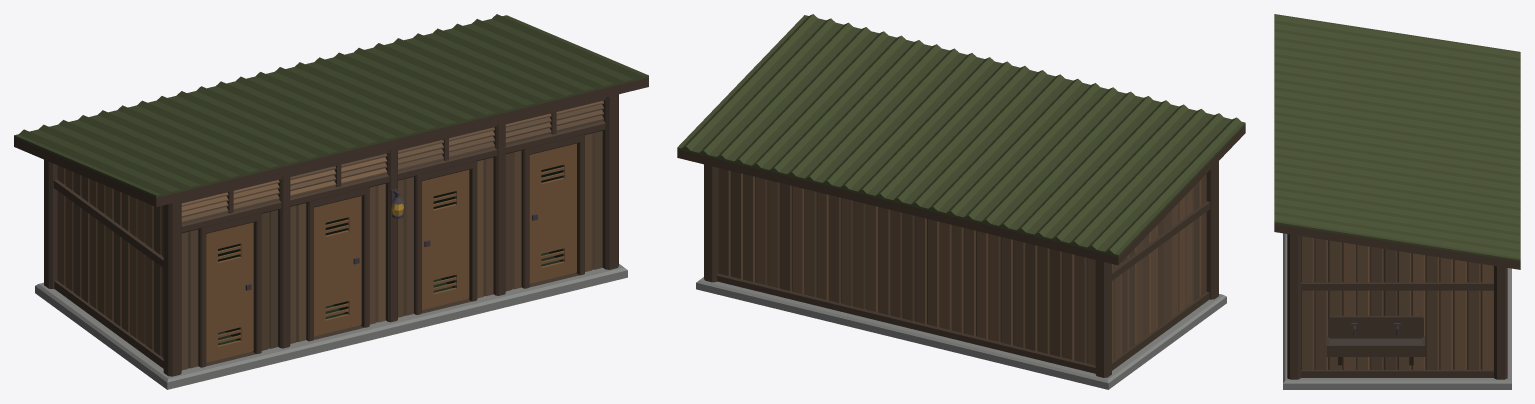
File: timber-wash-house-c7e7d5.glb
3 renders of one model, left to right at view 1: azimuth 30°, elevation 25°; view 2: azimuth 150°, elevation 25°; view 3: azimuth 270°, elevation 25°, orthographic. The views are drawn at different scales.
Parts seen in each view (by area): view 1: object 6, door-r2, door-l1, door-r1, door-l2; view 2: object 6; view 3: object 6.
Part boxes in pixels (box(x1,y1,x2,y2)): object 6: box(14, 14, 648, 389); door-r2: box(529, 143, 576, 283); door-l1: box(314, 196, 361, 336); door-r1: box(422, 170, 469, 309); door-l2: box(206, 222, 253, 362); object 6: box(677, 14, 1245, 389); object 6: box(1274, 14, 1520, 389).
Bounding box in the file's own units: 8 × 3.19 × 4.
